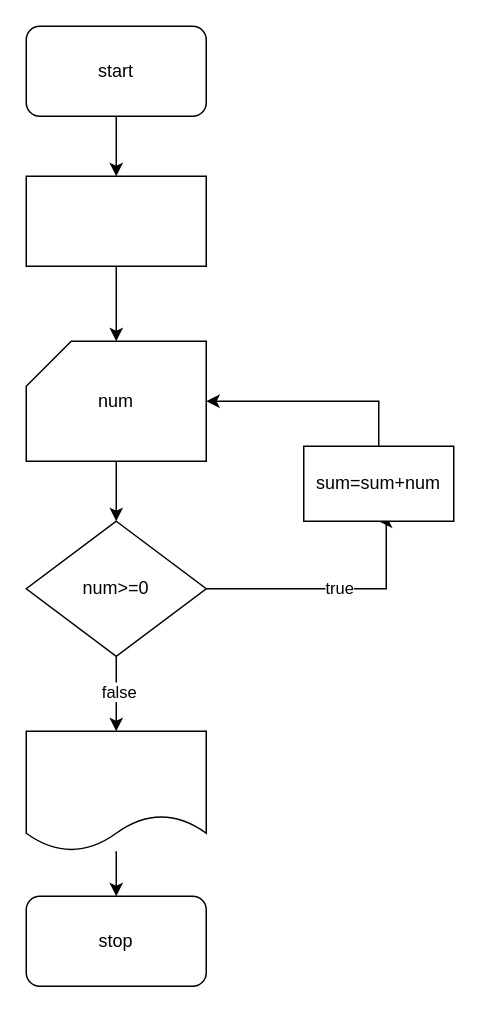
Some shapes in this 480 by 1013 pixel diagram are drawn without their labels. The box of each missing label's shape, as (x1, y1, x2, y2) in pixels:
sum: (25, 730, 206, 851)
sum=0: (25, 175, 206, 266)
